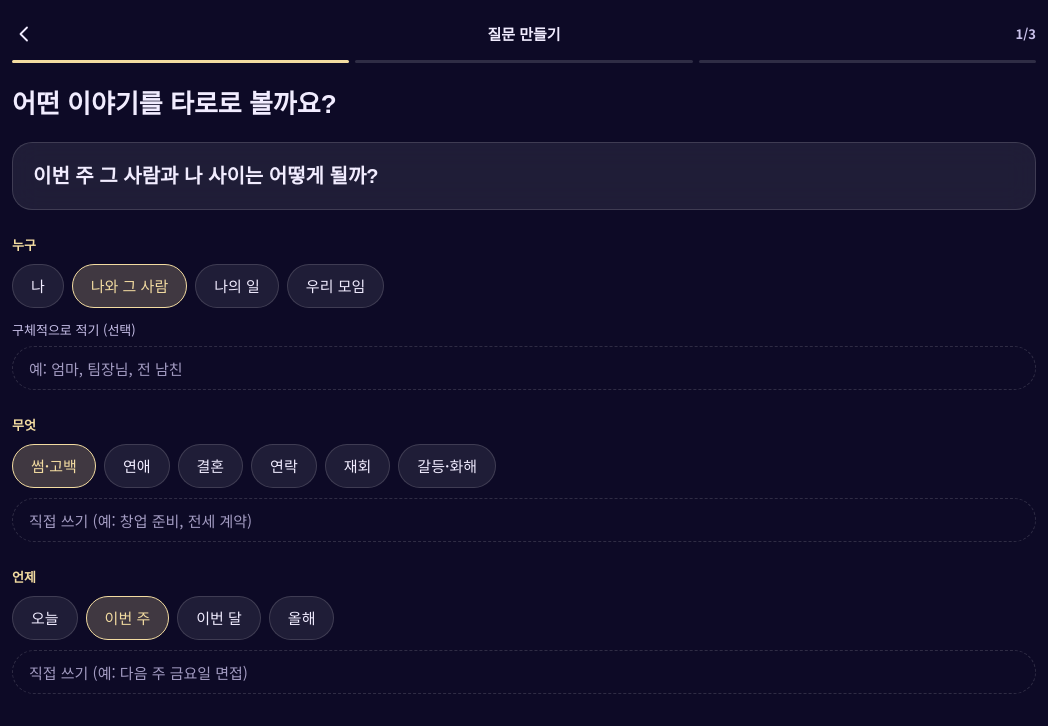
Test case: QuestionBuilder › takes a short 누구 (8 characters for a person) and keeps a sentence typed there out of the question
This screenshot has width=1048, height=726.
In the field labelled "구체적으로 적기 (선택)": (530, 368) left=29, top=347, right=1031, bottom=389, type "티끌을 얼마나 모아"
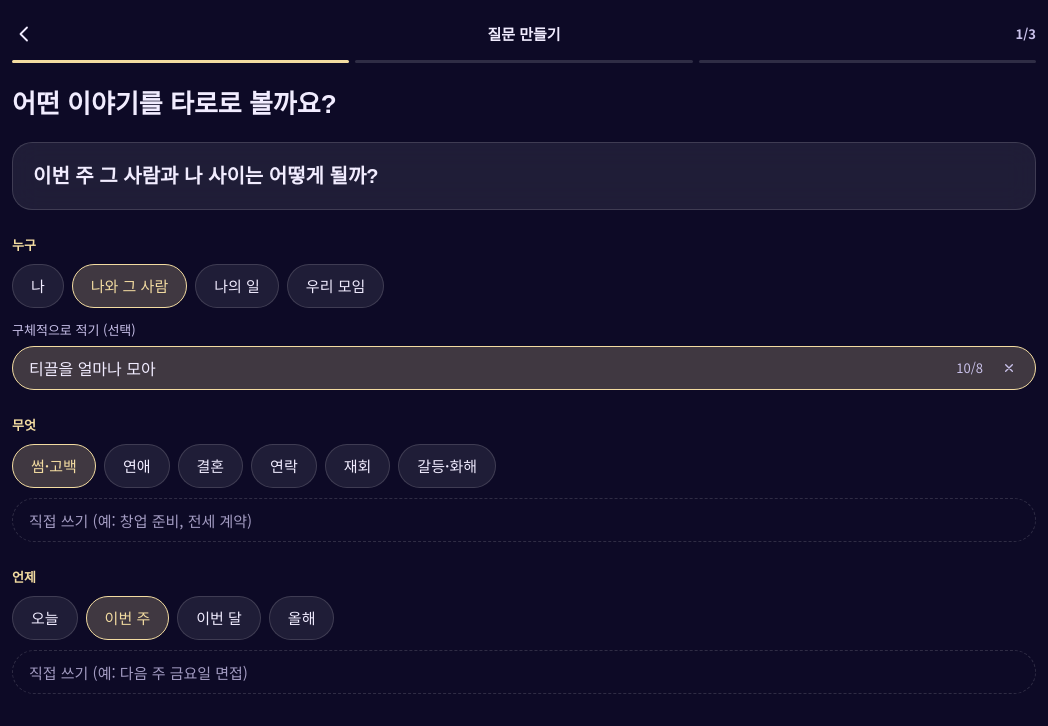
Check: the text "이번 주 그 사람과 나 사이는 어떻게 될까?" is shown, box left=33, top=165, right=378, bottom=187
Replace the text in the field labelled "구체적으로 적기 (선택)" with "엄마": (491, 368) left=29, top=347, right=952, bottom=389
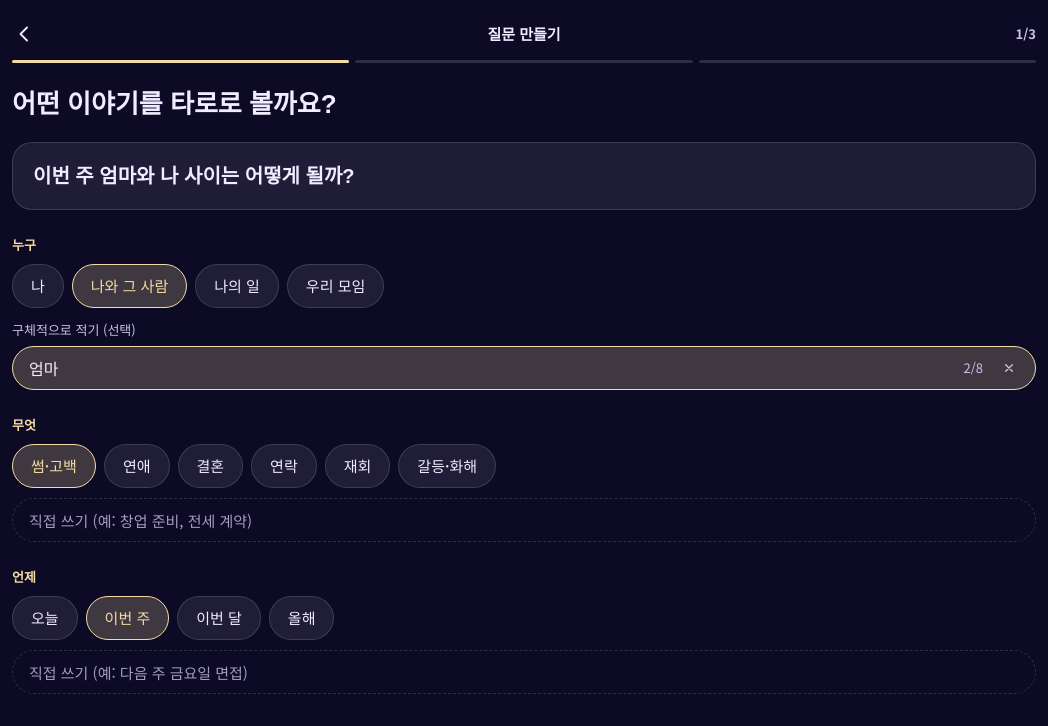
Check: the text "이번 주 엄마와 나 사이는 어떻게 될까?" is shown, box left=33, top=165, right=355, bottom=187
